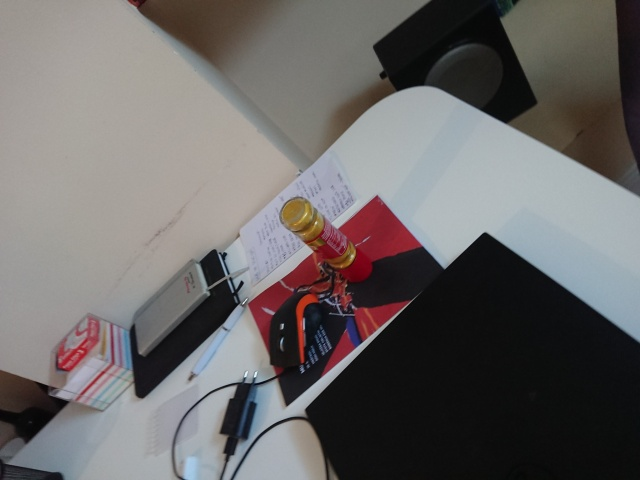Kotanyi Curry Spices Mix 70g: (277, 194, 375, 285)
